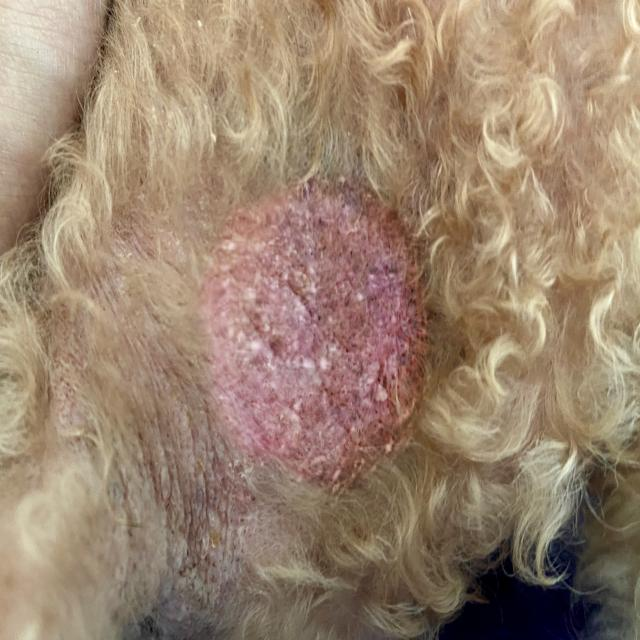ringworm: (170, 130, 452, 508)
